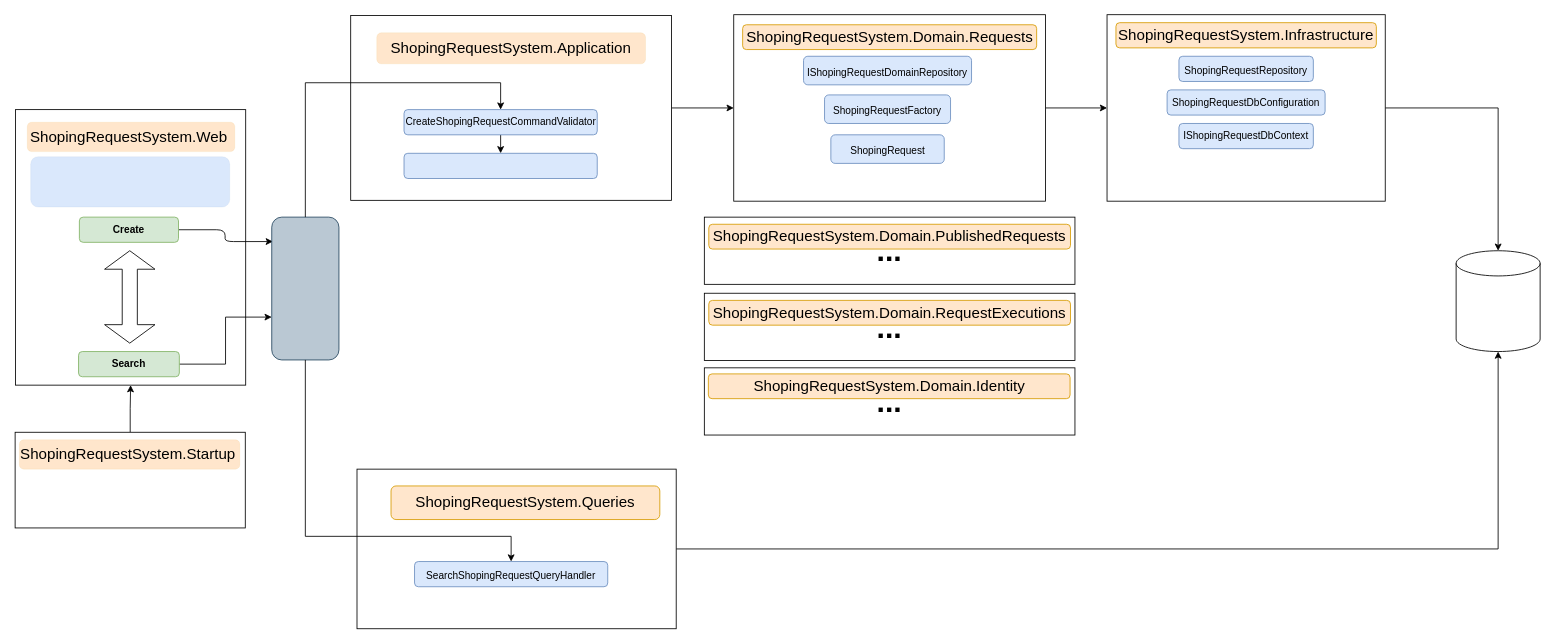
This 1555x643 diagram has some shape labels left out. The centre of each missing label's shape, as x and y in pixels:
CreateShopingRequestCommandHandler: (500,165)
MediatR: (305,288)
ShopingRequestController: (129,181)
Sql Server: (1497,301)
